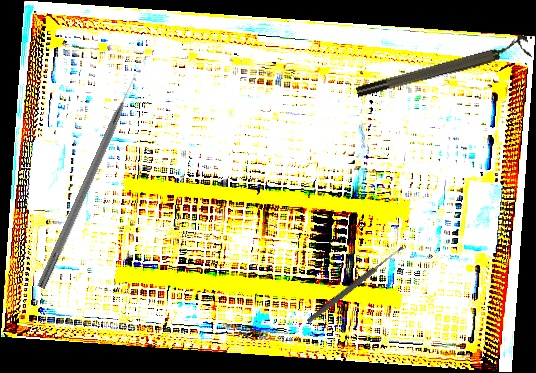Fixation Ring: (353, 33, 532, 101)
Hook Surgical: (37, 72, 142, 291)
Surgical Spoon: (305, 244, 406, 325)
